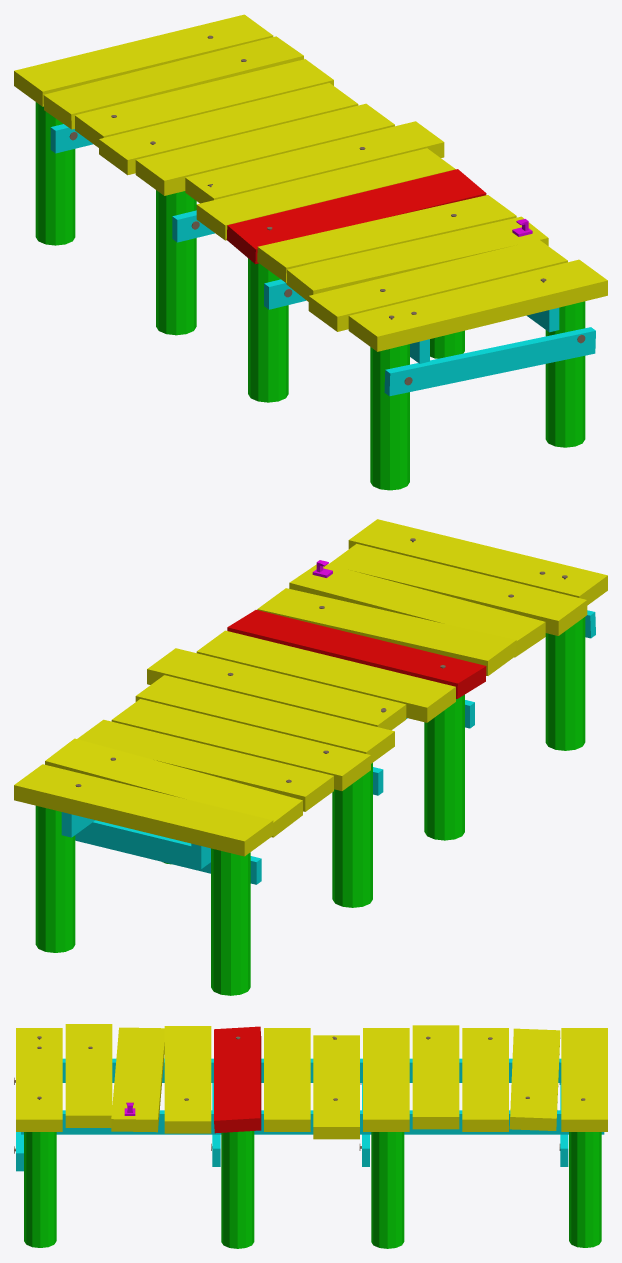
File: DockBetter_Substance.fbx
3 renders of one model, top to bottom at view 1: azimuth 30°, elevation 25°; view 2: azimuth 150°, elevation 25°; view 3: azimuth 270°, elevation 25°, orthographic. The views are drawn at different scales.
Visible parts, largest first — view 1: pCylinder1, pCylinder2, pCube1, pCube5, pCube8, pCube12, pCube2, pCube9, pCube7, pCube11, pCube10, pCube4 (+7 smaller); view 2: pCylinder1, pCube12, pCylinder2, pCube6, pCube11, pCube4, pCube2, pCube9, pCube7, pCube8, pCube1, pCube10 (+4 smaller); view 3: pCylinder2, pCylinder1, pCube4, pCube9, pCube5, pCube2, pCube7, pCube3, pCube6, pCube8, pCube12, pCube10 (+5 smaller).
Boxes of the visible parts, box(x1,y1,x2,y2) form: pCylinder1: box(35, 102, 585, 490); pCylinder2: box(156, 190, 464, 402); pCube1: box(348, 259, 607, 351); pCube5: box(226, 169, 486, 264); pCube8: box(135, 103, 394, 195); pCube12: box(14, 14, 273, 106); pCube2: box(308, 239, 567, 331); pCube9: box(99, 83, 358, 175); pCube7: box(185, 121, 444, 203); pCube11: box(43, 36, 303, 129); pCube10: box(75, 59, 333, 147); pCube4: box(257, 195, 516, 282); pCylinder1: box(35, 617, 585, 995); pCube12: box(14, 764, 273, 856); pCylinder2: box(162, 694, 464, 907); pCube6: box(196, 630, 455, 722); pCube11: box(45, 738, 302, 837); pCube4: box(257, 588, 516, 675); pCube2: box(328, 543, 587, 635); pCube9: box(111, 699, 370, 790); pCube7: box(147, 648, 406, 730); pCube8: box(135, 675, 394, 763); pCube1: box(348, 519, 607, 605); pCube10: box(77, 719, 333, 811); pCylinder2: box(221, 1131, 404, 1248); pCylinder1: box(24, 1132, 601, 1247); pCube4: box(164, 1026, 211, 1133); pCube9: box(412, 1025, 459, 1129); pCube5: box(214, 1026, 261, 1133); pCube2: box(65, 1024, 112, 1127); pCube7: box(313, 1035, 359, 1139); pCube3: box(111, 1027, 164, 1132); pCube6: box(264, 1028, 310, 1131); pCube8: box(363, 1028, 409, 1131); pCube12: box(561, 1028, 607, 1131); pCube10: box(462, 1028, 508, 1131).
Size of the model in its own units: 2.21 by 5.39 by 1.43.
